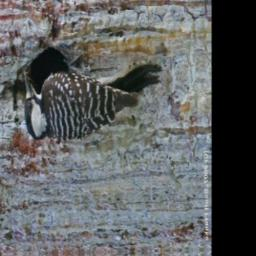Woodpecker: (20, 59, 162, 150)
